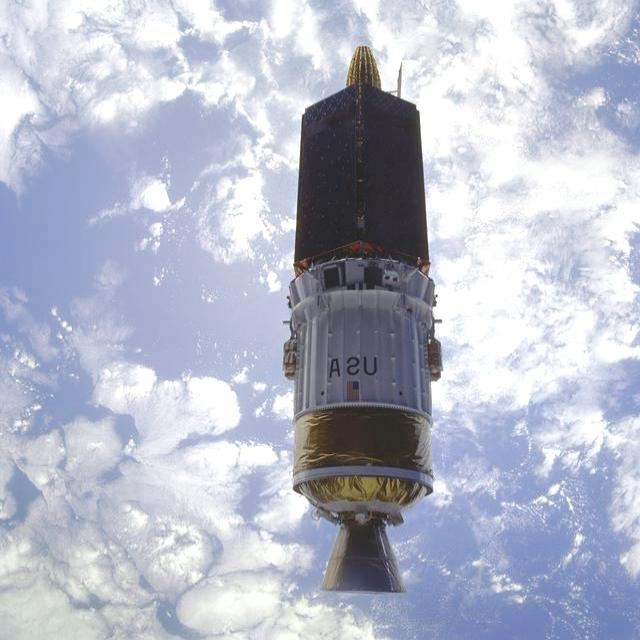medium_debris: (256, 50, 450, 600)
